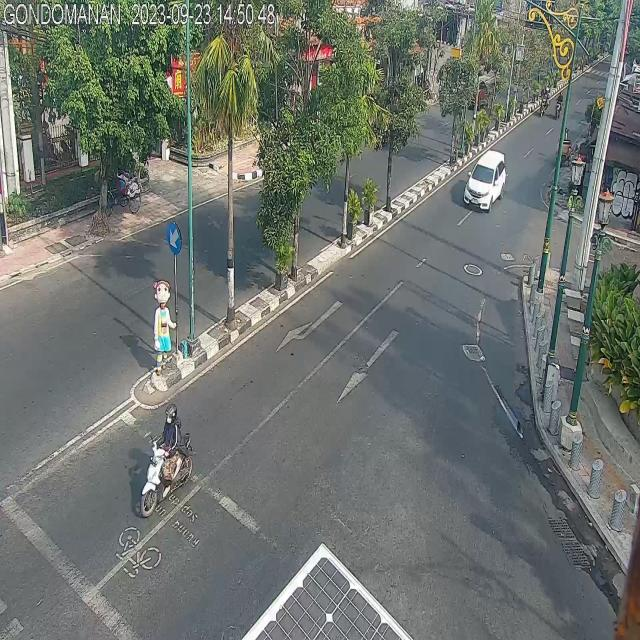car: (463, 138, 507, 216)
motorcycle: (137, 394, 195, 520), (554, 90, 564, 125), (541, 78, 550, 116)
